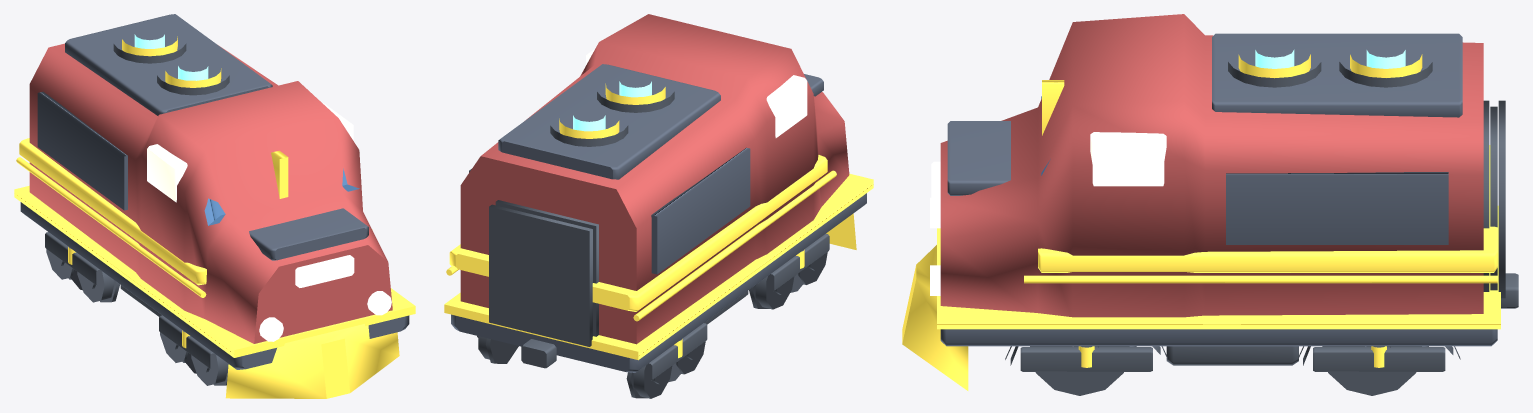
File: locomotive_heavy.glb
3 views of the same model, side by side, from view 1: azimuth 30°, elevation 25°; view 2: azimuth 150°, elevation 25°; view 3: azimuth 270°, elevation 25° (orthographic). The views are drawn at different scales.
Parts seen in each view (by area): view 1: LocoArmoredTurbine; view 2: LocoArmoredTurbine; view 3: LocoArmoredTurbine, WheelSet_1, WheelSet_0.
Boxes of the visible parts, x1=… form: LocoArmoredTurbine: x1=14, y1=14, x2=415, y2=398; LocoArmoredTurbine: x1=444, y1=14, x2=873, y2=398; LocoArmoredTurbine: x1=902, y1=14, x2=1518, y2=390; WheelSet_1: x1=1322, y1=346, x2=1421, y2=395; WheelSet_0: x1=1030, y1=346, x2=1129, y2=395.
Size of the model in its own units: 0.386 by 0.4853 by 0.8855.
